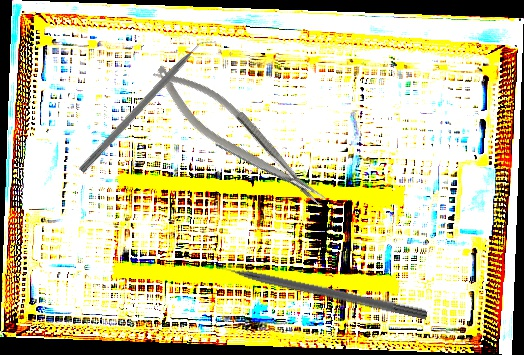Chopper: (78, 31, 219, 181)
Needle Holder: (144, 52, 333, 223)
Pusher: (202, 256, 429, 321)
